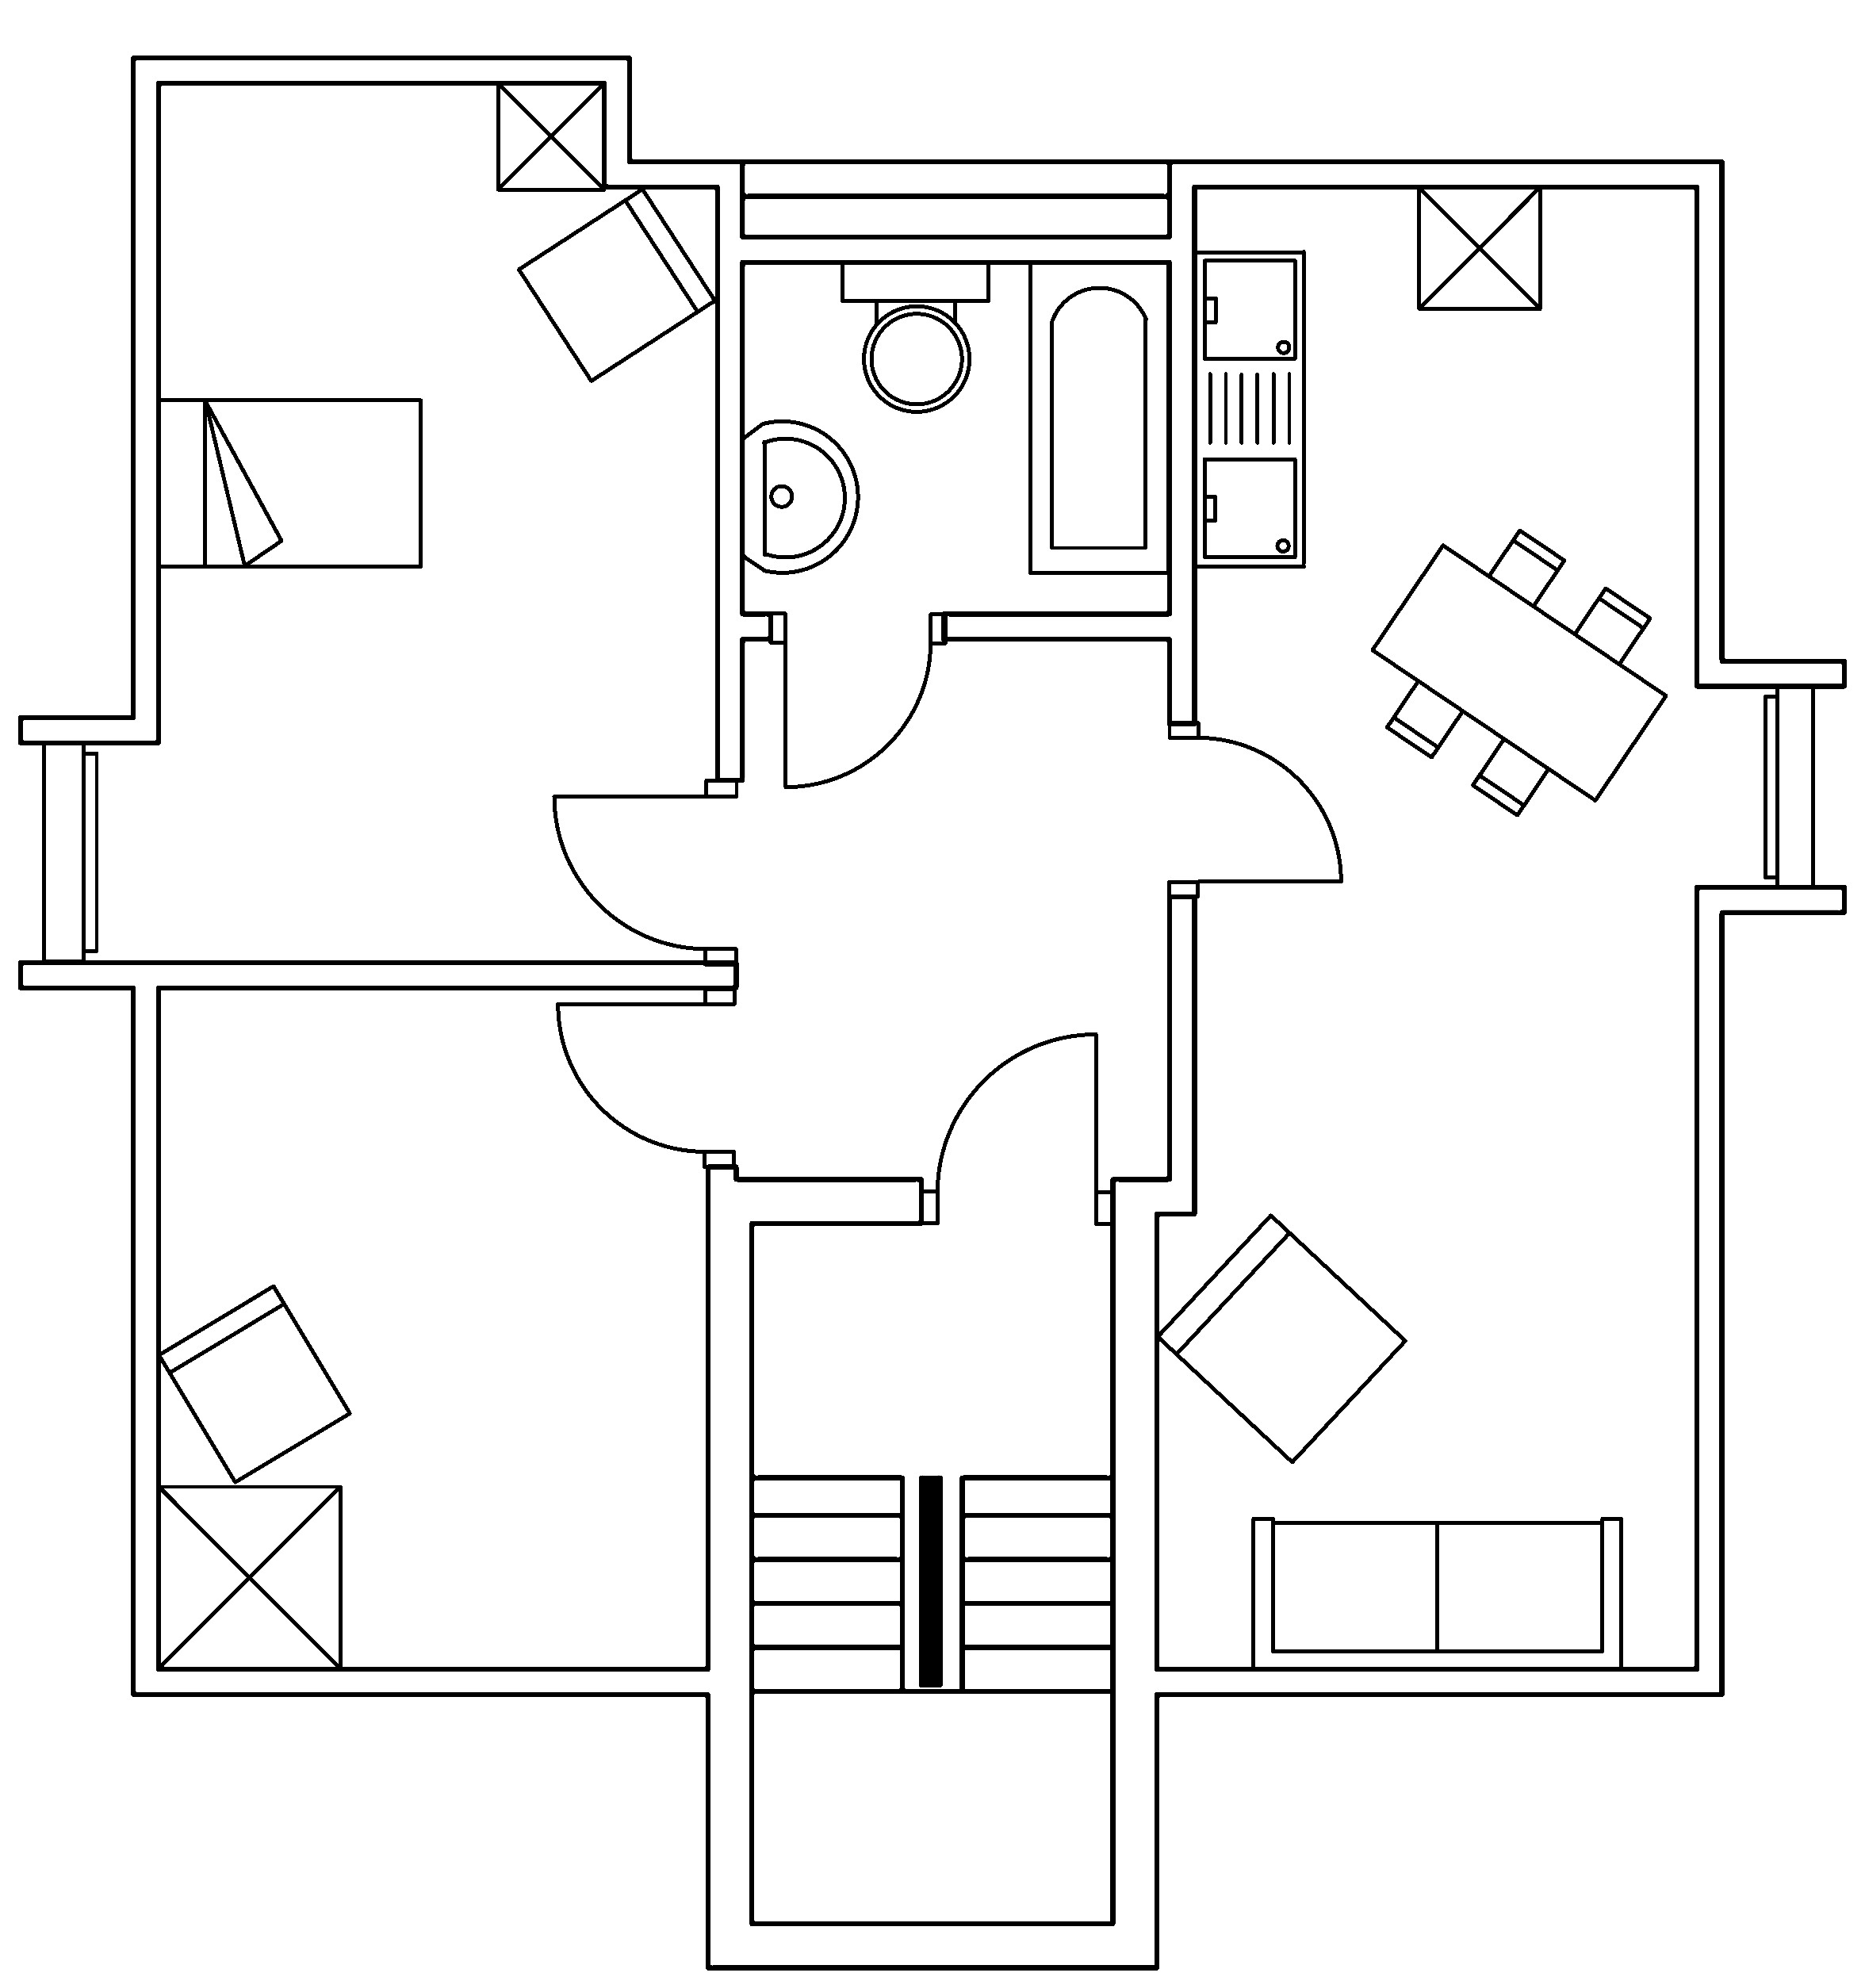bed: (154, 396, 424, 570)
coffee_table: (154, 1481, 342, 1671), (1416, 182, 1542, 310), (494, 79, 606, 191)
dining_table: (1369, 526, 1669, 817)
large_sink: (840, 258, 990, 412)
large_sofa: (1250, 1515, 1623, 1672)
small_sink: (740, 419, 859, 573)
small_sofa: (1153, 1211, 1408, 1464), (156, 1282, 352, 1485), (515, 186, 717, 382)
tub: (1027, 258, 1171, 575)
twin_sink: (1192, 247, 1308, 570)
